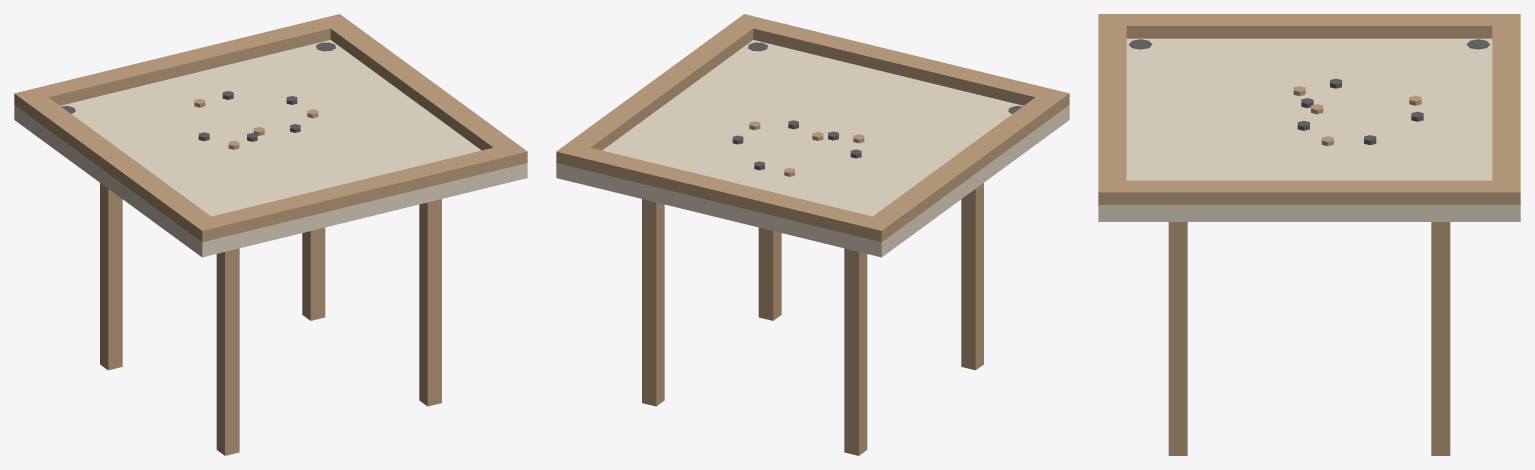
Rendered from Carrom_Table.fbx.
3 renders of one model, left to right at view 1: azimuth 30°, elevation 25°; view 2: azimuth 150°, elevation 25°; view 3: azimuth 270°, elevation 25°, orthographic. The views are drawn at different scales.
Parts seen in each view (by area): view 1: Carrom_Table; view 2: Carrom_Table; view 3: Carrom_Table.
Boxes of the visible parts, x1,y1,x2,y2 form: Carrom_Table: (14, 14, 527, 455); Carrom_Table: (556, 14, 1069, 455); Carrom_Table: (1098, 14, 1520, 455).
Bounding box in the file's own units: 0.9 × 0.69 × 0.9.
